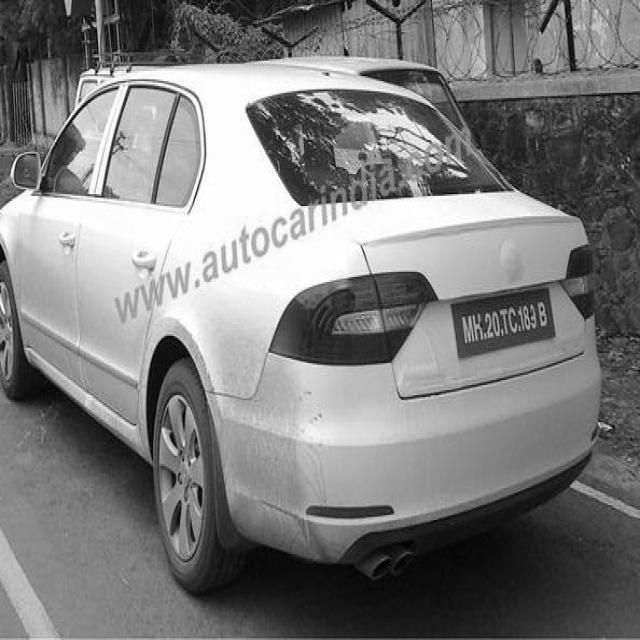car: (0, 74, 603, 599)
license-plate: (452, 286, 560, 362)
